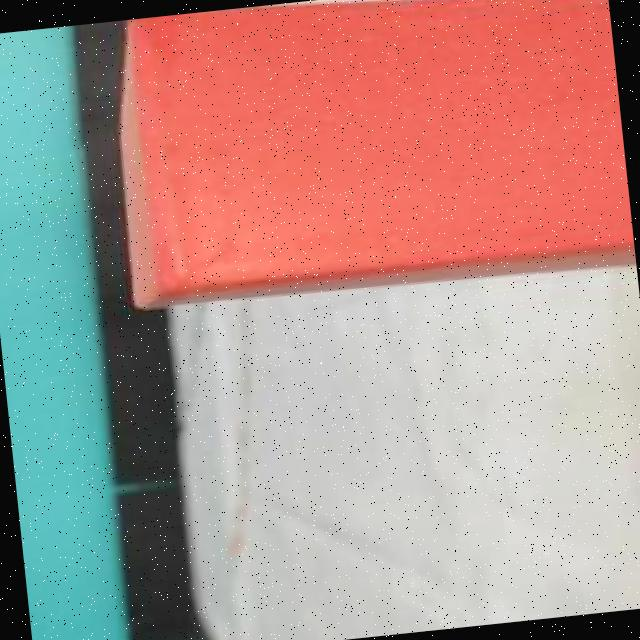redbox: (113, 0, 634, 301)
